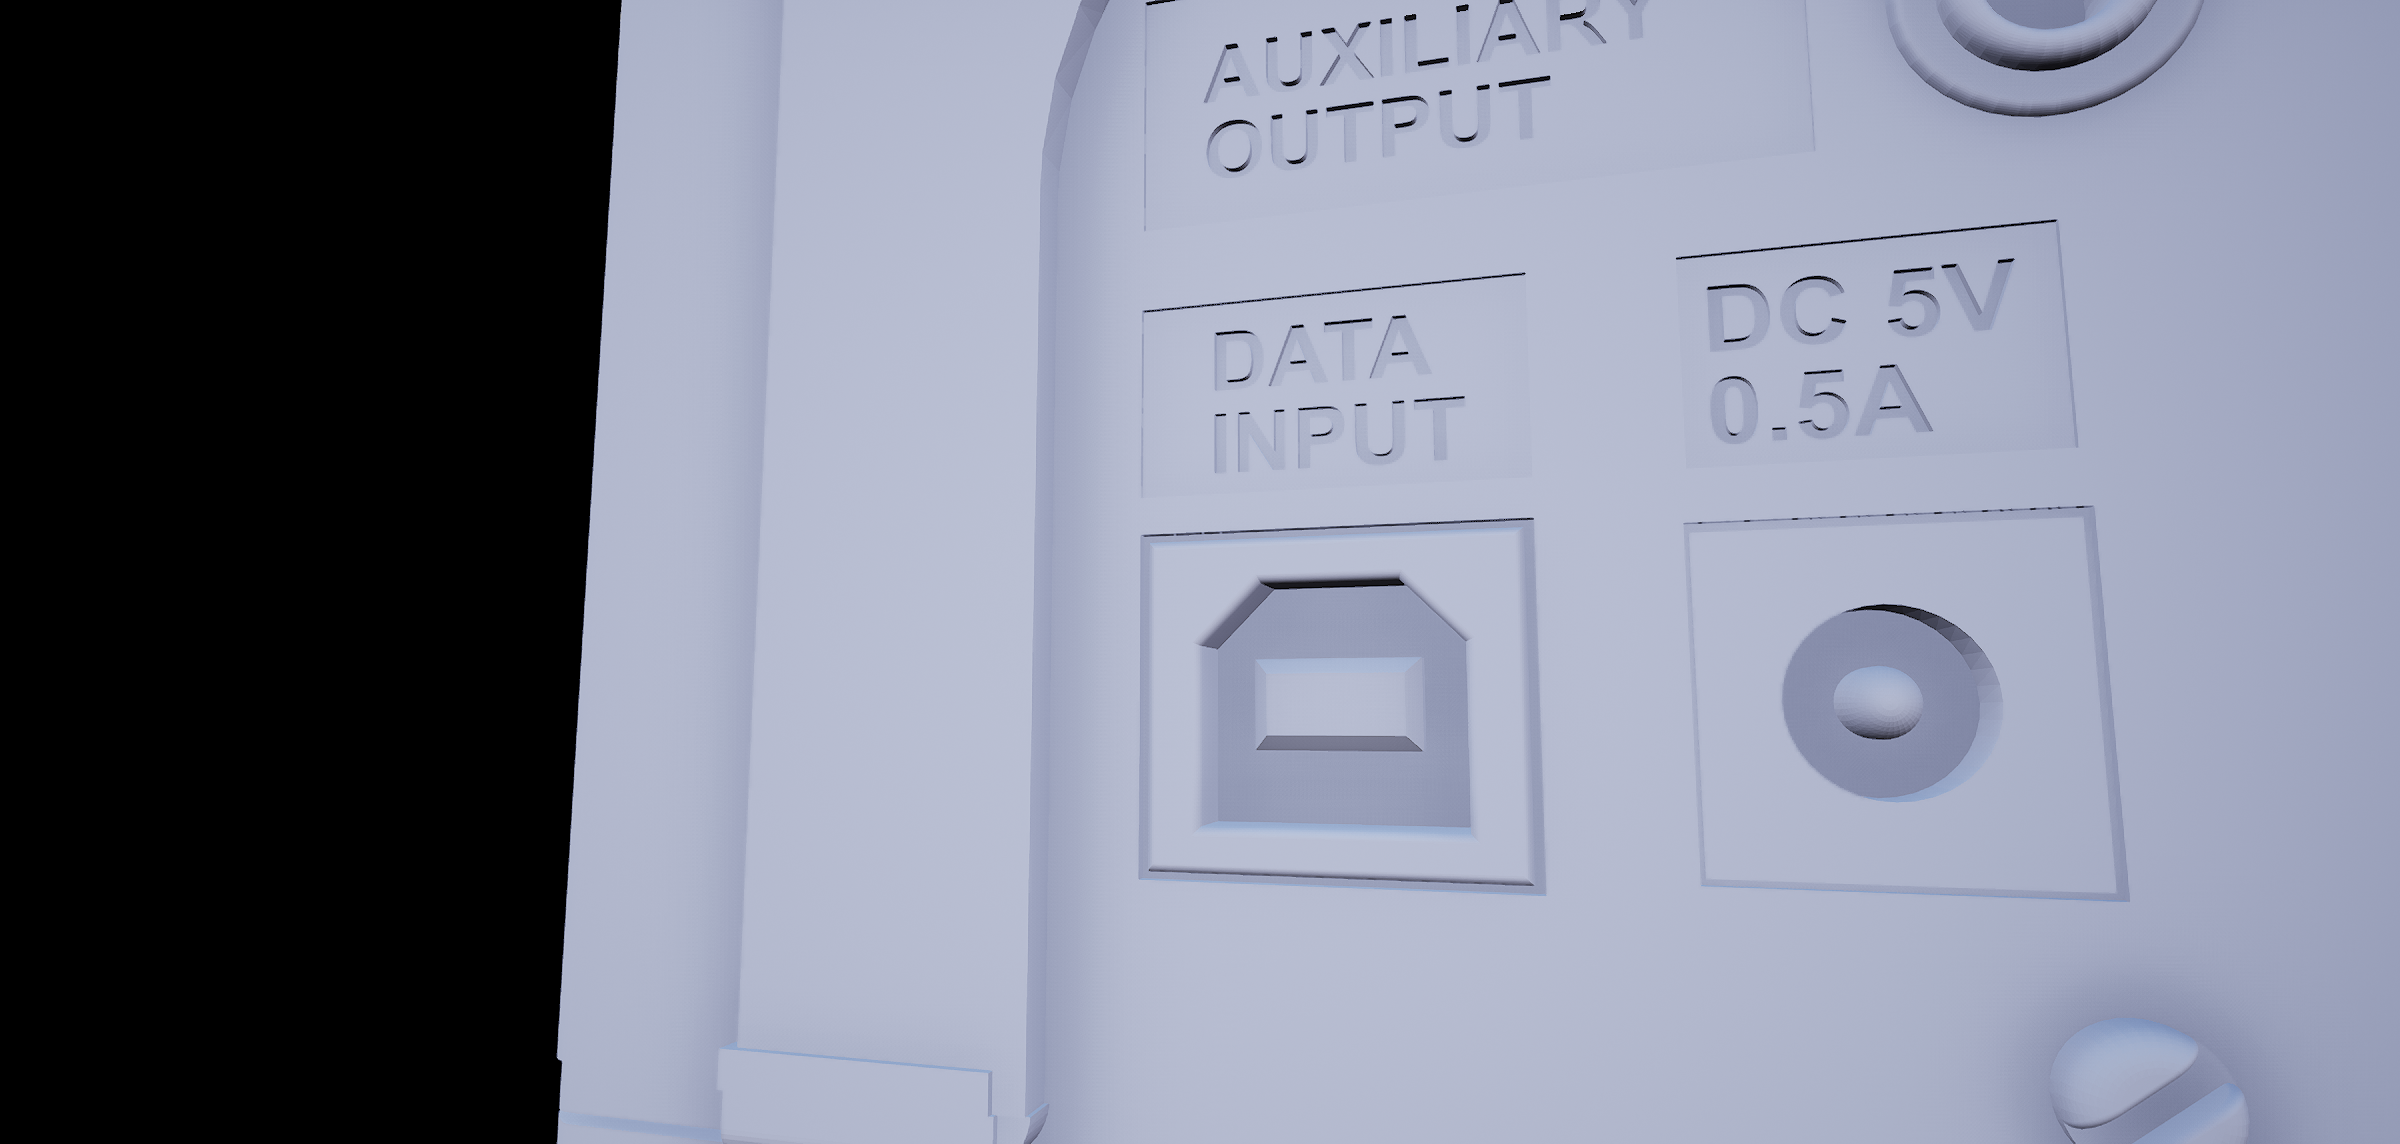aux: (1869, 2, 2222, 133)
dc: (1754, 583, 2033, 835)
usb: (1195, 567, 1497, 842)
